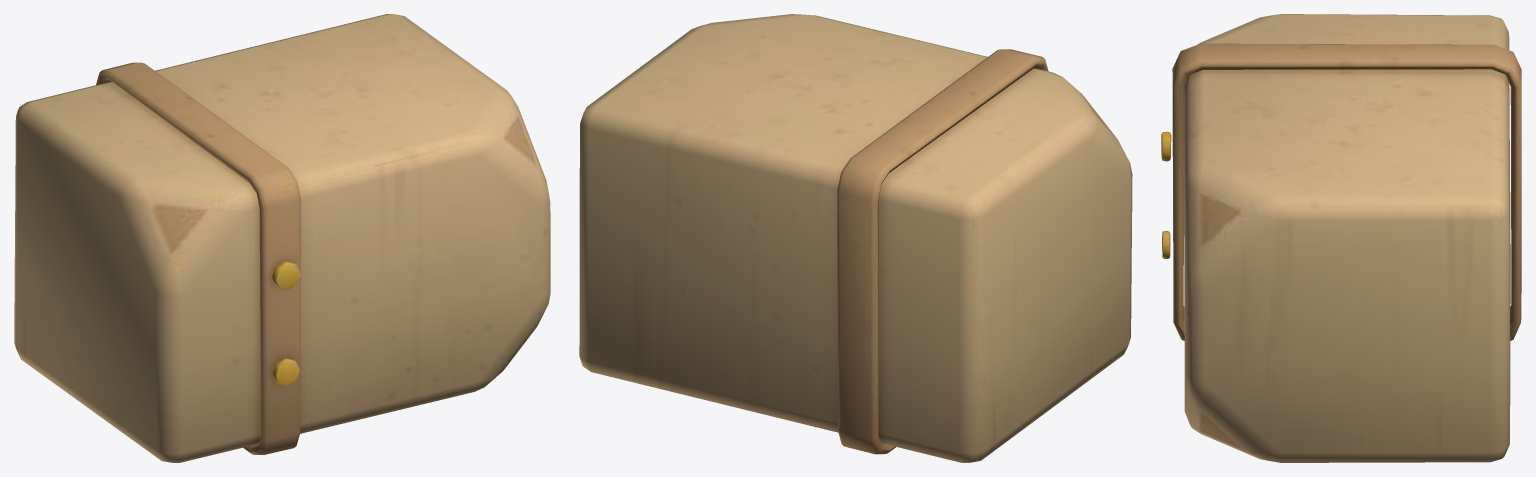
File: stone-block.glb
3 renders of one model, left to right at view 1: azimuth 30°, elevation 25°; view 2: azimuth 150°, elevation 25°; view 3: azimuth 270°, elevation 25°, orthographic. The views are drawn at different scales.
Parts seen in each view (by area): view 1: stone-block; view 2: stone-block; view 3: stone-block.
Part boxes in pixels (x1=…): stone-block: x1=14, y1=14, x2=550, y2=462; stone-block: x1=579, y1=14, x2=1132, y2=462; stone-block: x1=1161, y1=14, x2=1521, y2=462.
Size of the model in its own units: 0.6019 by 0.4103 by 0.4655.
3 materials, 3 textured.
